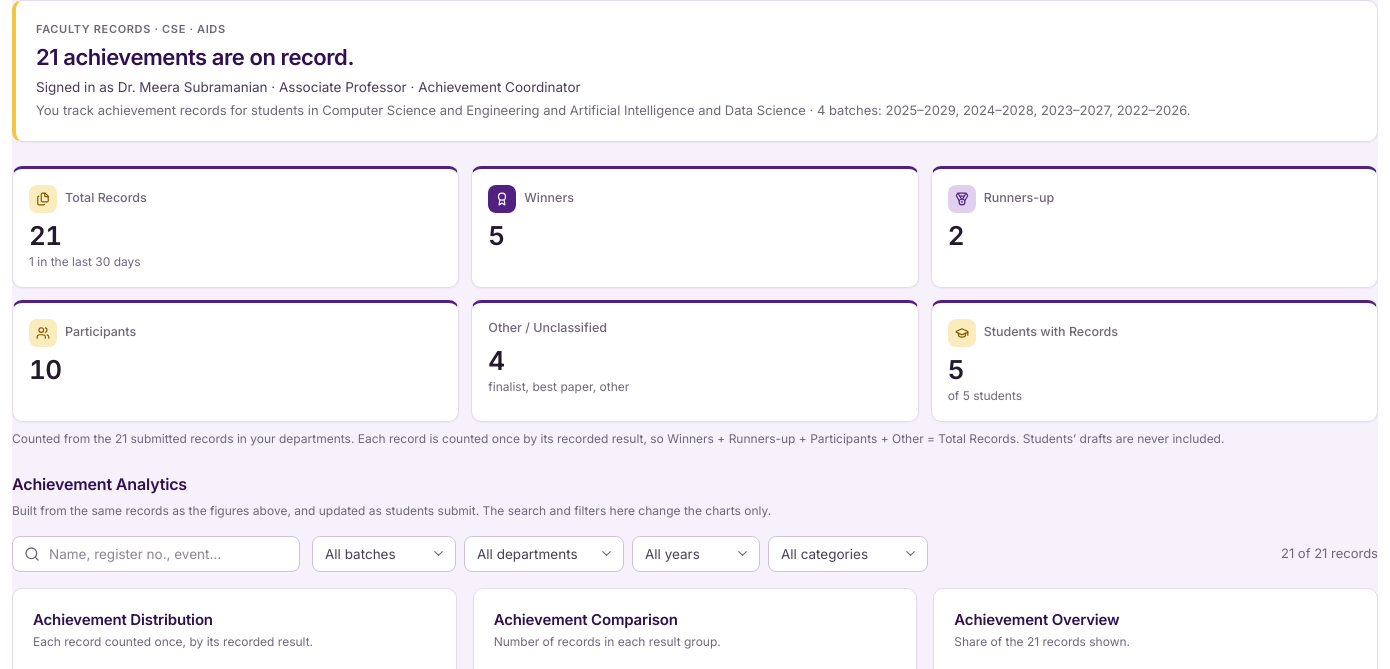
it: Achievement Analytics on the Faculty Dashboard › search and filters › narrow the charts by search, and leave the statistics cards alone
In the search field named "Search records to chart": (156, 554) [12,536,300,572], type "Sana"
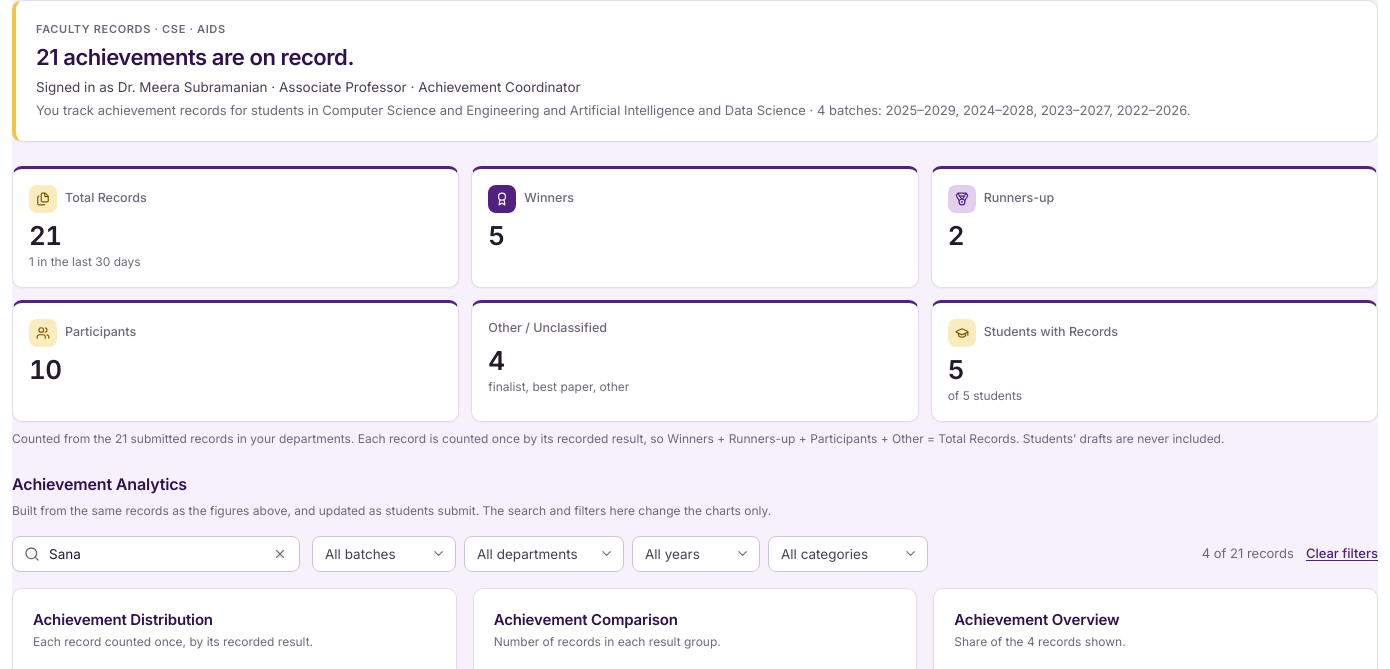
Expected: the text "4 of 21 records" is shown, [1202,544,1294,564]
